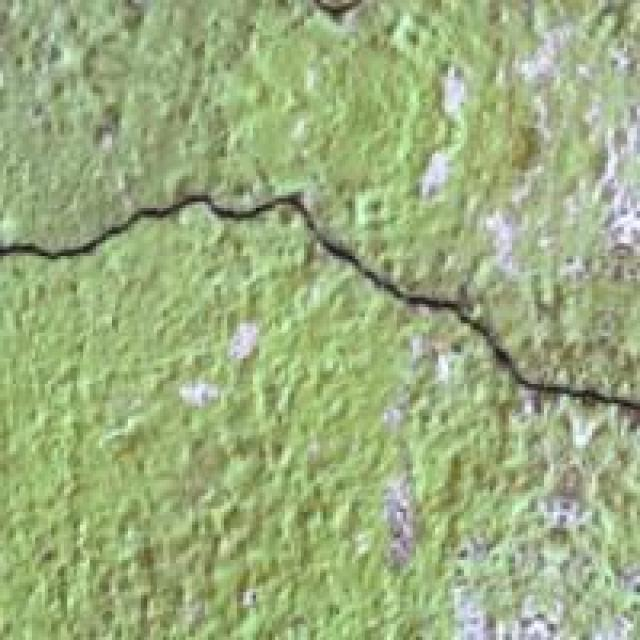crack: (0, 126, 640, 442)
